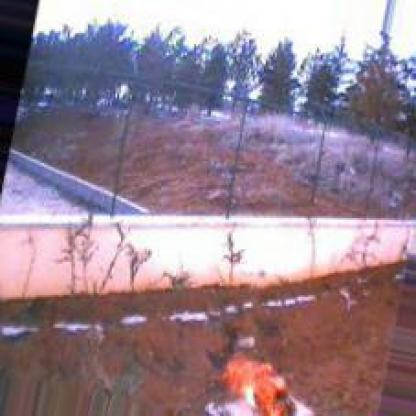fire: (213, 339, 295, 412)
